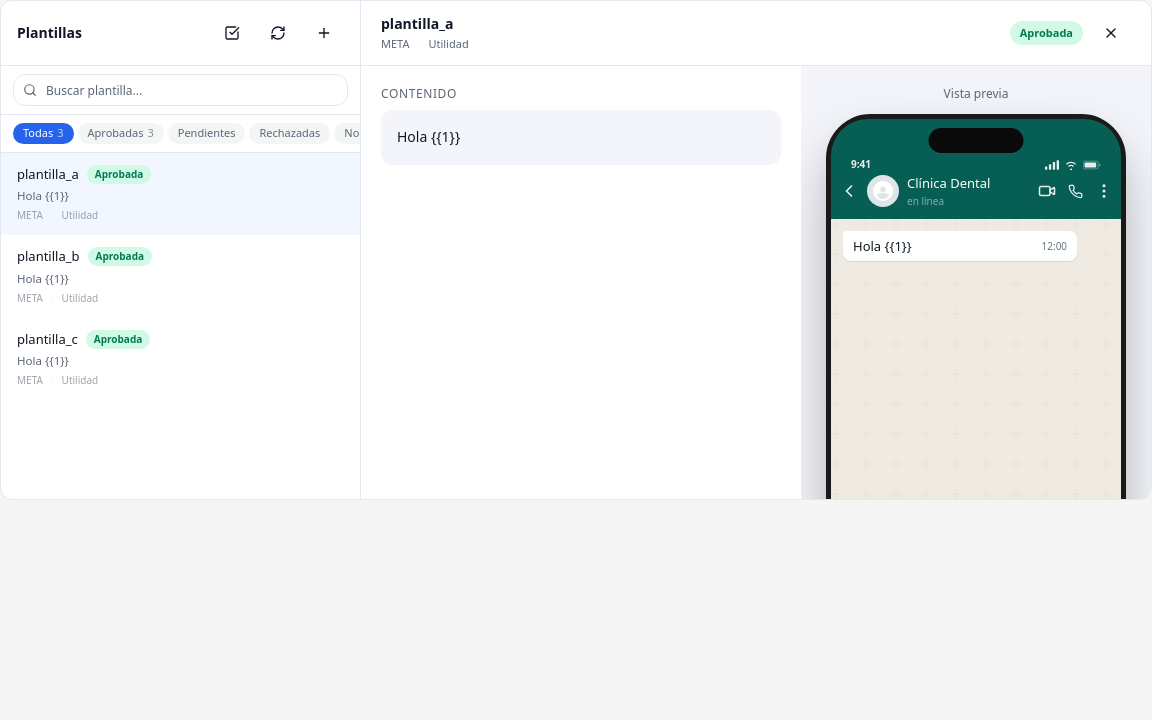
Scenario: Eliminar plantillas › elimina varias seleccionadas y sale del modo selección cuando todo salió
The image size is (1152, 720).
Click the button named "Seleccionar plantillas" at (232, 33), box top-left (212, 13), bottom-right (252, 53)
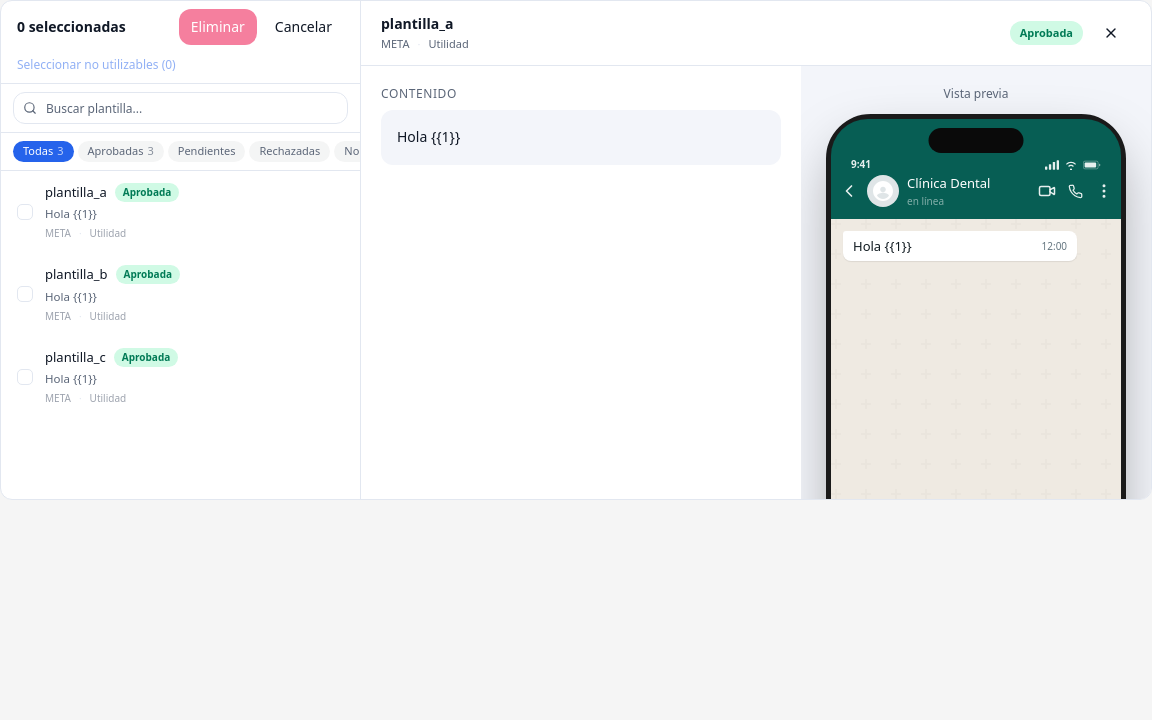
expect the text "0 seleccionadas" is shown: met, box top-left (17, 17), bottom-right (126, 37)
expect the button "Eliminar" is disabled: met, box top-left (179, 9), bottom-right (257, 45)
Click the checkbox named "Seleccionar la plantilla plantilla_a" at (25, 212), box top-left (17, 204), bottom-right (33, 220)
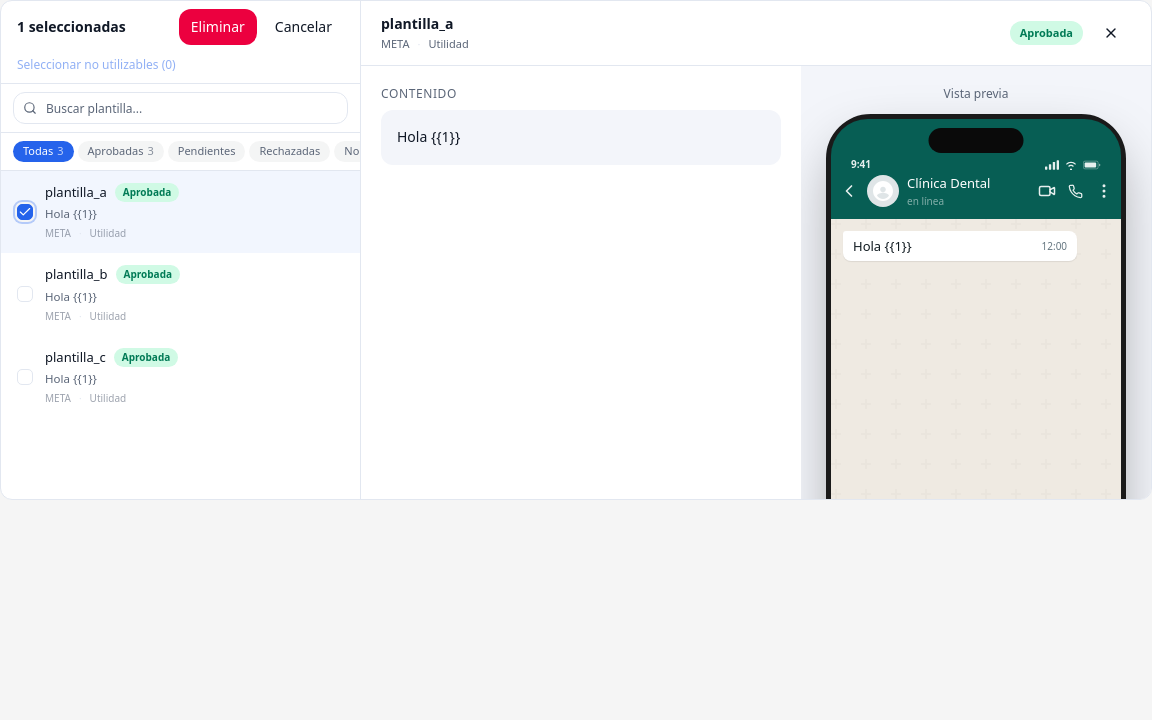
Pulsar la fila también la marca, en vez de abrir el detalle.
Click the button "plantilla_c Aprobada Hola {{1}} META · Utilidad" at (75, 357), box top-left (33, 336), bottom-right (360, 418)
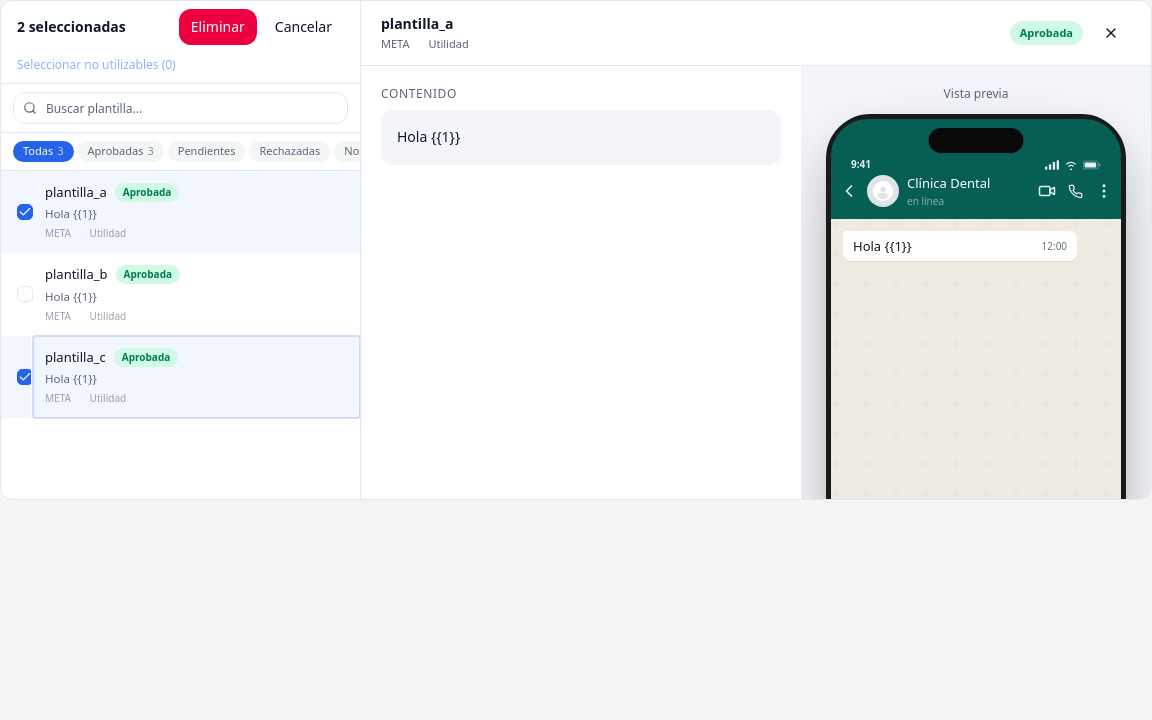
expect the text "2 seleccionadas" is shown: met, box top-left (17, 17), bottom-right (126, 37)
Click the button "Eliminar" at (218, 27), box top-left (179, 9), bottom-right (257, 45)
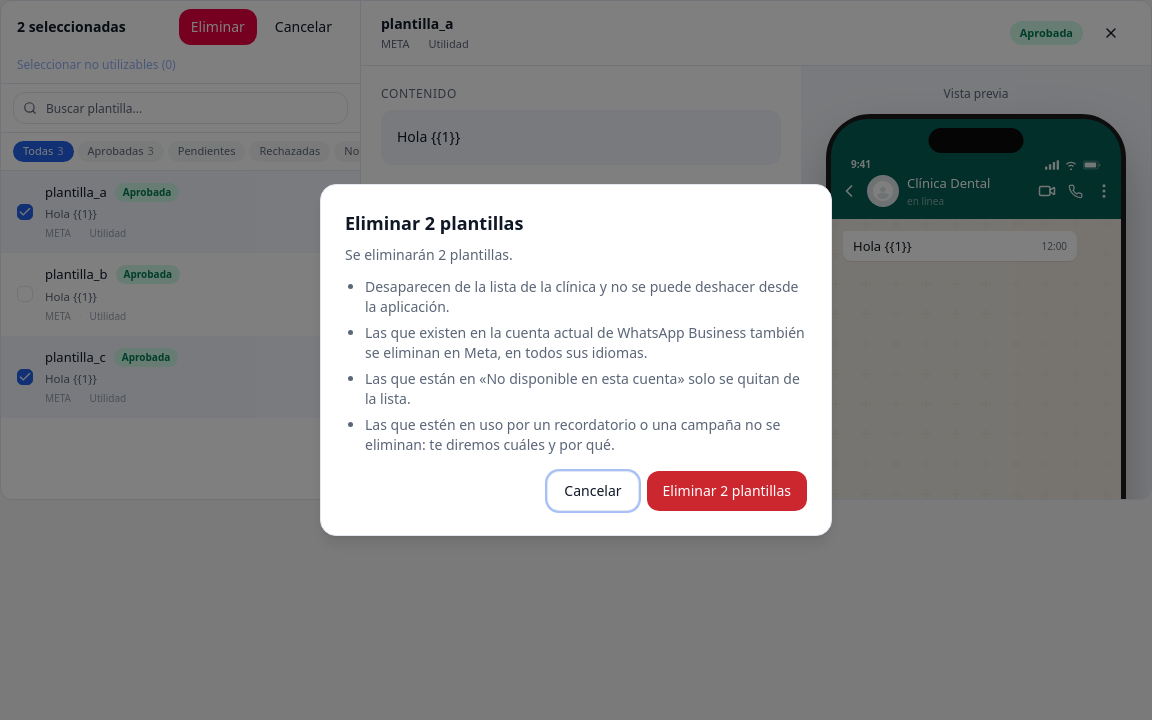
expect the dialog shows "Se eliminarán 2 plantillas.": met, box top-left (345, 245), bottom-right (513, 264)
Click the button "Eliminar 2 plantillas" at (727, 491), box top-left (646, 471), bottom-right (807, 511)
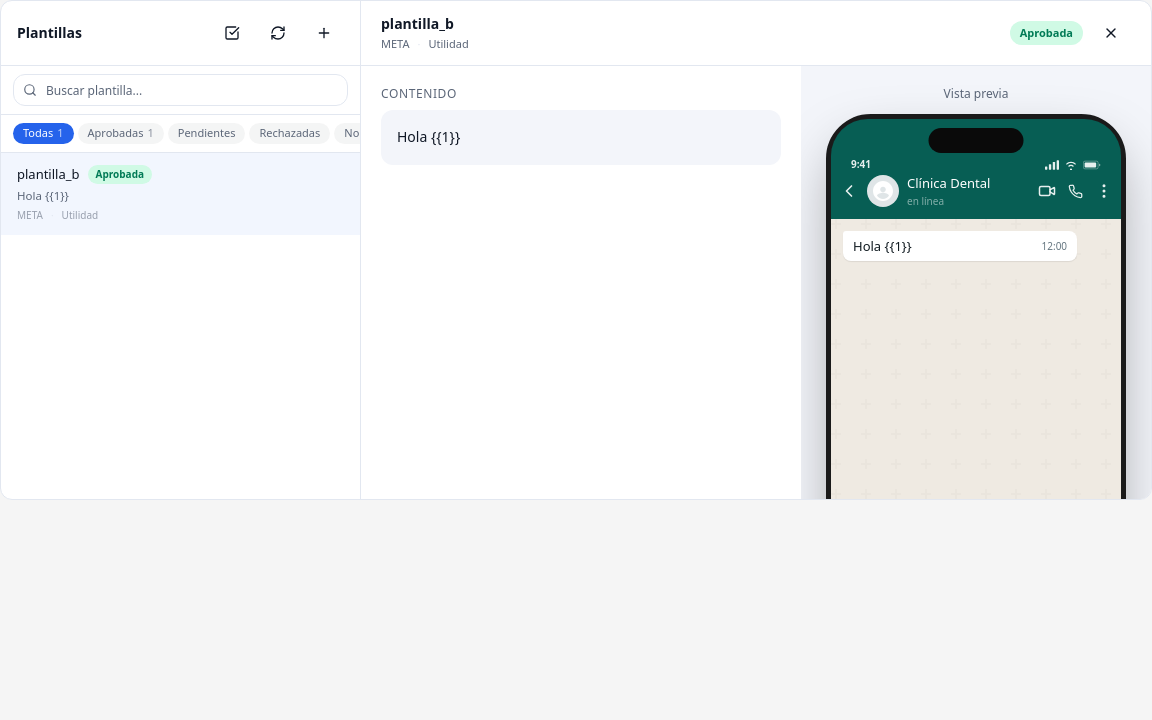
expect the button named "Seleccionar plantillas" is shown: met, box top-left (212, 13), bottom-right (252, 53)
